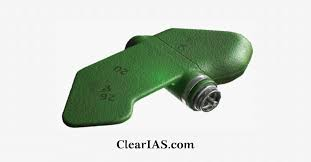butterfly: (51, 19, 257, 134)
